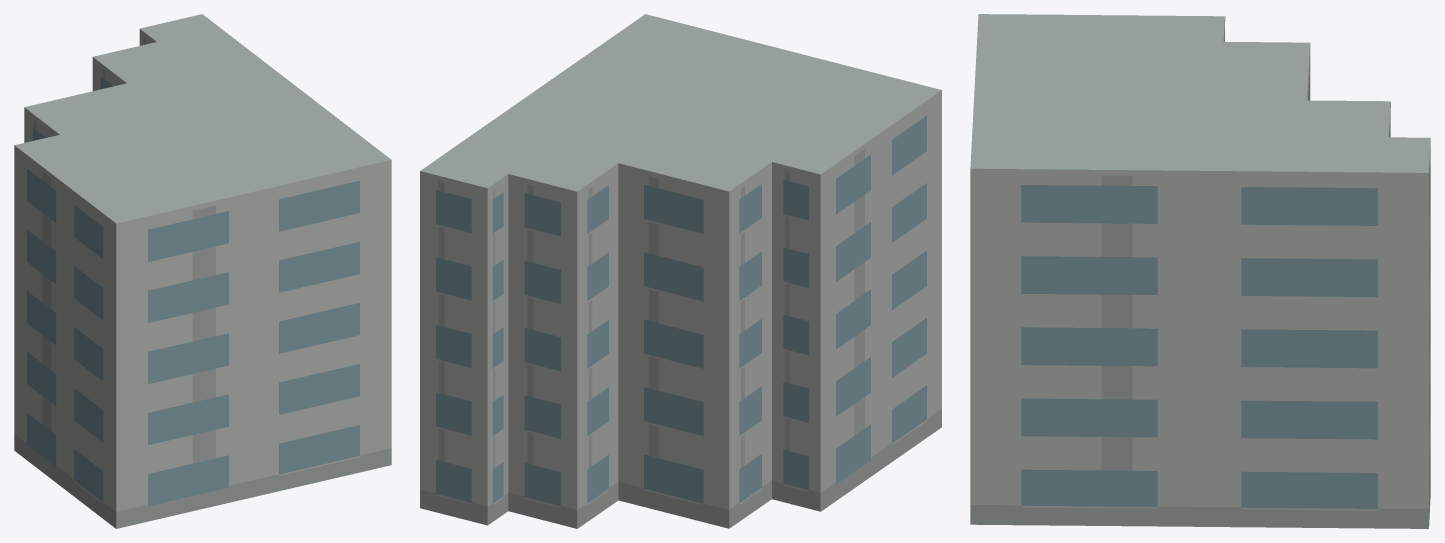
The model's file is residential-a44a4e30-5979-4050-adfc-ce43dfa0d318.glb.
The picture shows the model from 3 angles, left to right: view 1: azimuth 30°, elevation 25°; view 2: azimuth 150°, elevation 25°; view 3: azimuth 270°, elevation 25°; orthographic projection. The views are drawn at different scales.
Parts seen in each view (by area): view 1: residential-a44a4e30-5979-4050-adfc-ce43dfa0d318.tmp; view 2: residential-a44a4e30-5979-4050-adfc-ce43dfa0d318.tmp; view 3: residential-a44a4e30-5979-4050-adfc-ce43dfa0d318.tmp.
Part boxes in pixels (x1,y1,x2,y2): residential-a44a4e30-5979-4050-adfc-ce43dfa0d318.tmp: (14, 14, 391, 528); residential-a44a4e30-5979-4050-adfc-ce43dfa0d318.tmp: (420, 14, 941, 528); residential-a44a4e30-5979-4050-adfc-ce43dfa0d318.tmp: (970, 14, 1430, 528).
Bounding box in the file's own units: 14.61 × 15.25 × 17.88.
